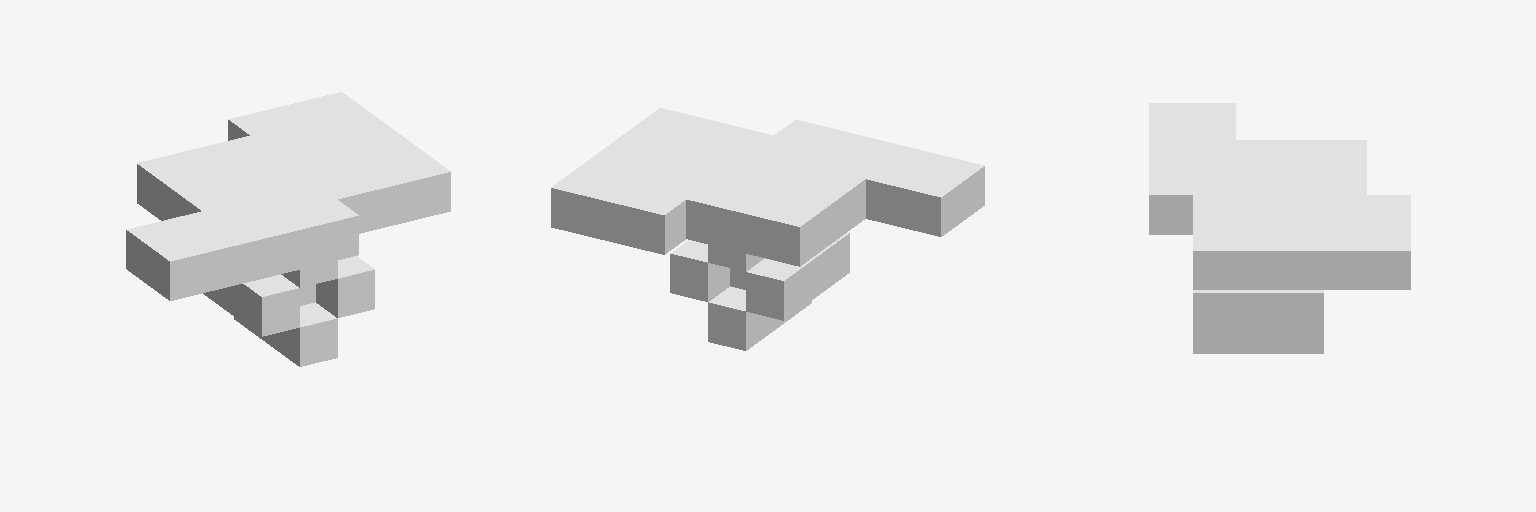
File: Extra-2-GalactixRacer_Wing1_L.obj
3 views of the same model, side by side, from view 1: azimuth 30°, elevation 25°; view 2: azimuth 150°, elevation 25°; view 3: azimuth 270°, elevation 25° (orthographic).
Parts seen in each view (by area): view 1: GalactixRacer_Wing1_L; view 2: GalactixRacer_Wing1_L; view 3: GalactixRacer_Wing1_L.
Part boxes in pixels (x1,y1,x2,y2): GalactixRacer_Wing1_L: (126,92,450,366); GalactixRacer_Wing1_L: (551,108,984,350); GalactixRacer_Wing1_L: (1149,103,1410,353).
Bounding box in the file's own units: 0.8 × 0.4 × 0.6.